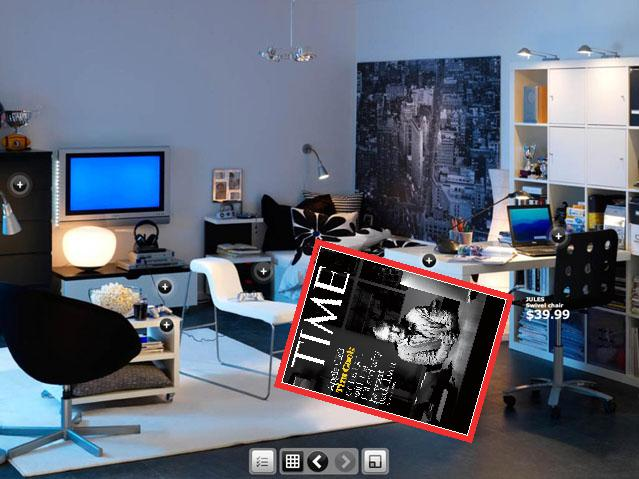times: (271, 239, 517, 432)
